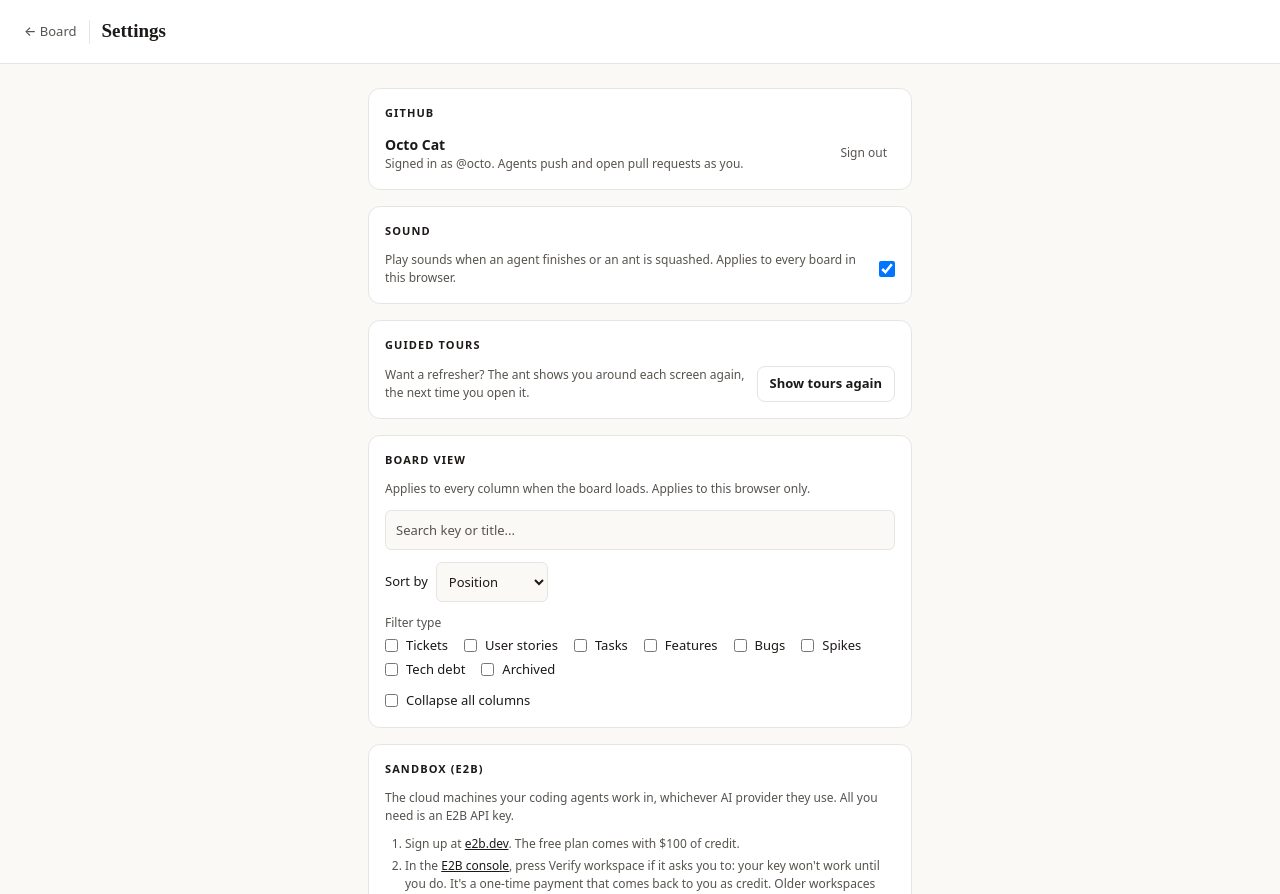
Scenario: Guided tours › forgets every tour seen, so each screen's plays again
The width and height of the screenshot is (1280, 894).
What coordinates should you click on to do the following:
click the button "Show tours again"
I would click on:
 (826, 384)
Its box is 757,366 -> 895,402.
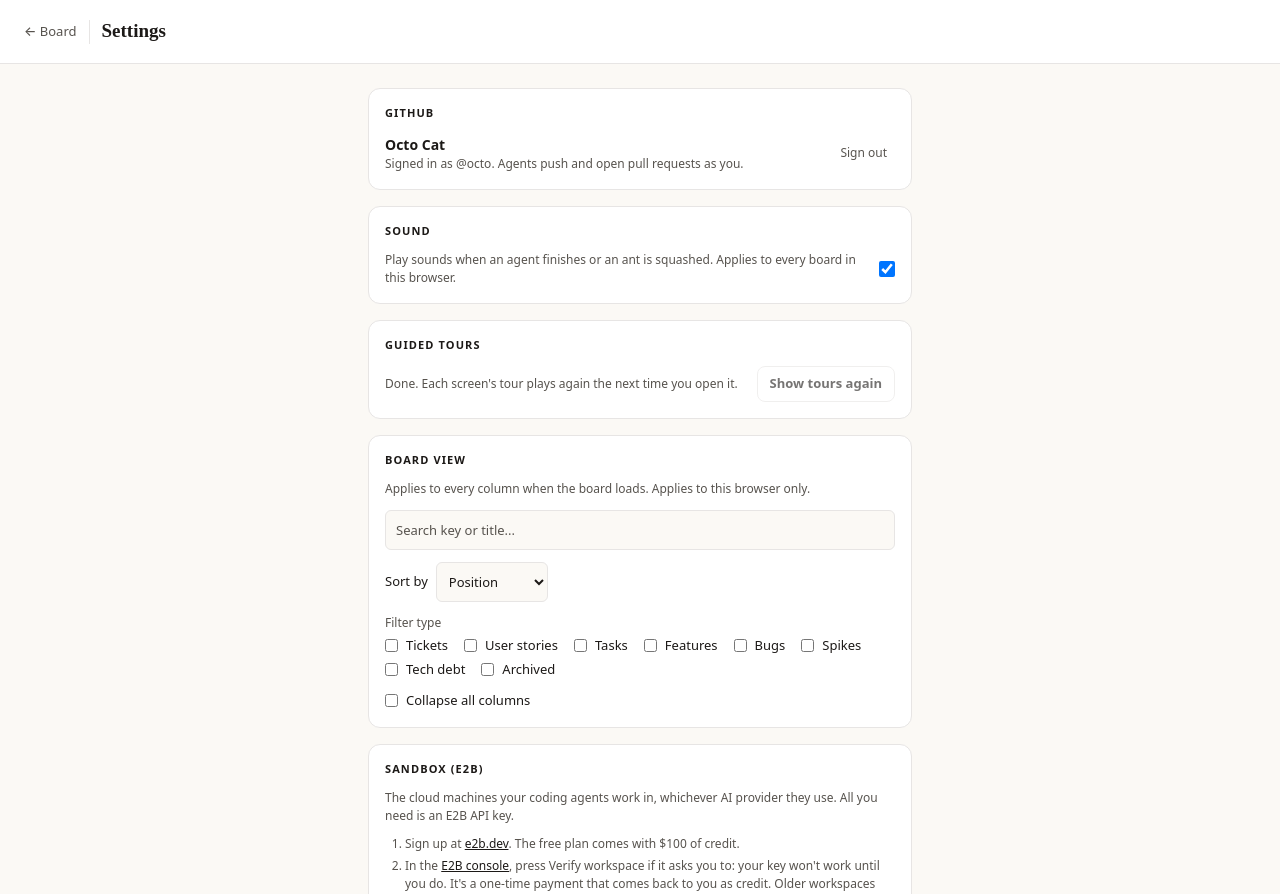
Now the text "plays again the next time you open it" is shown, box 385,374 -> 738,392
